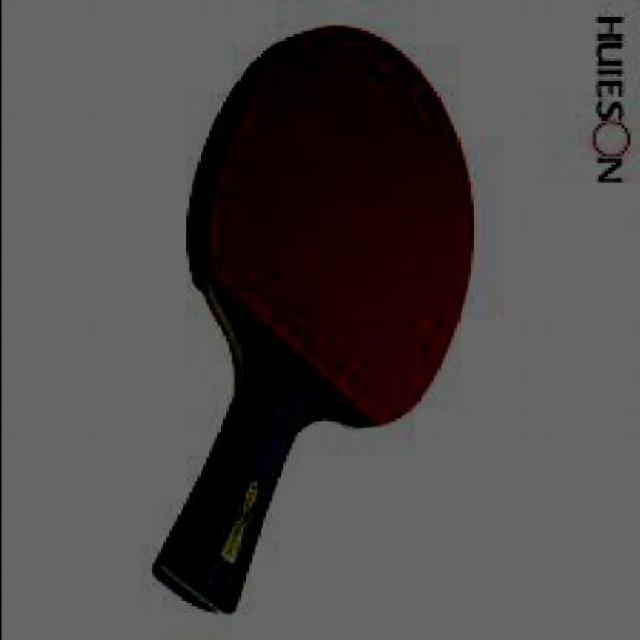table_tennis_racket: (152, 26, 477, 617)
